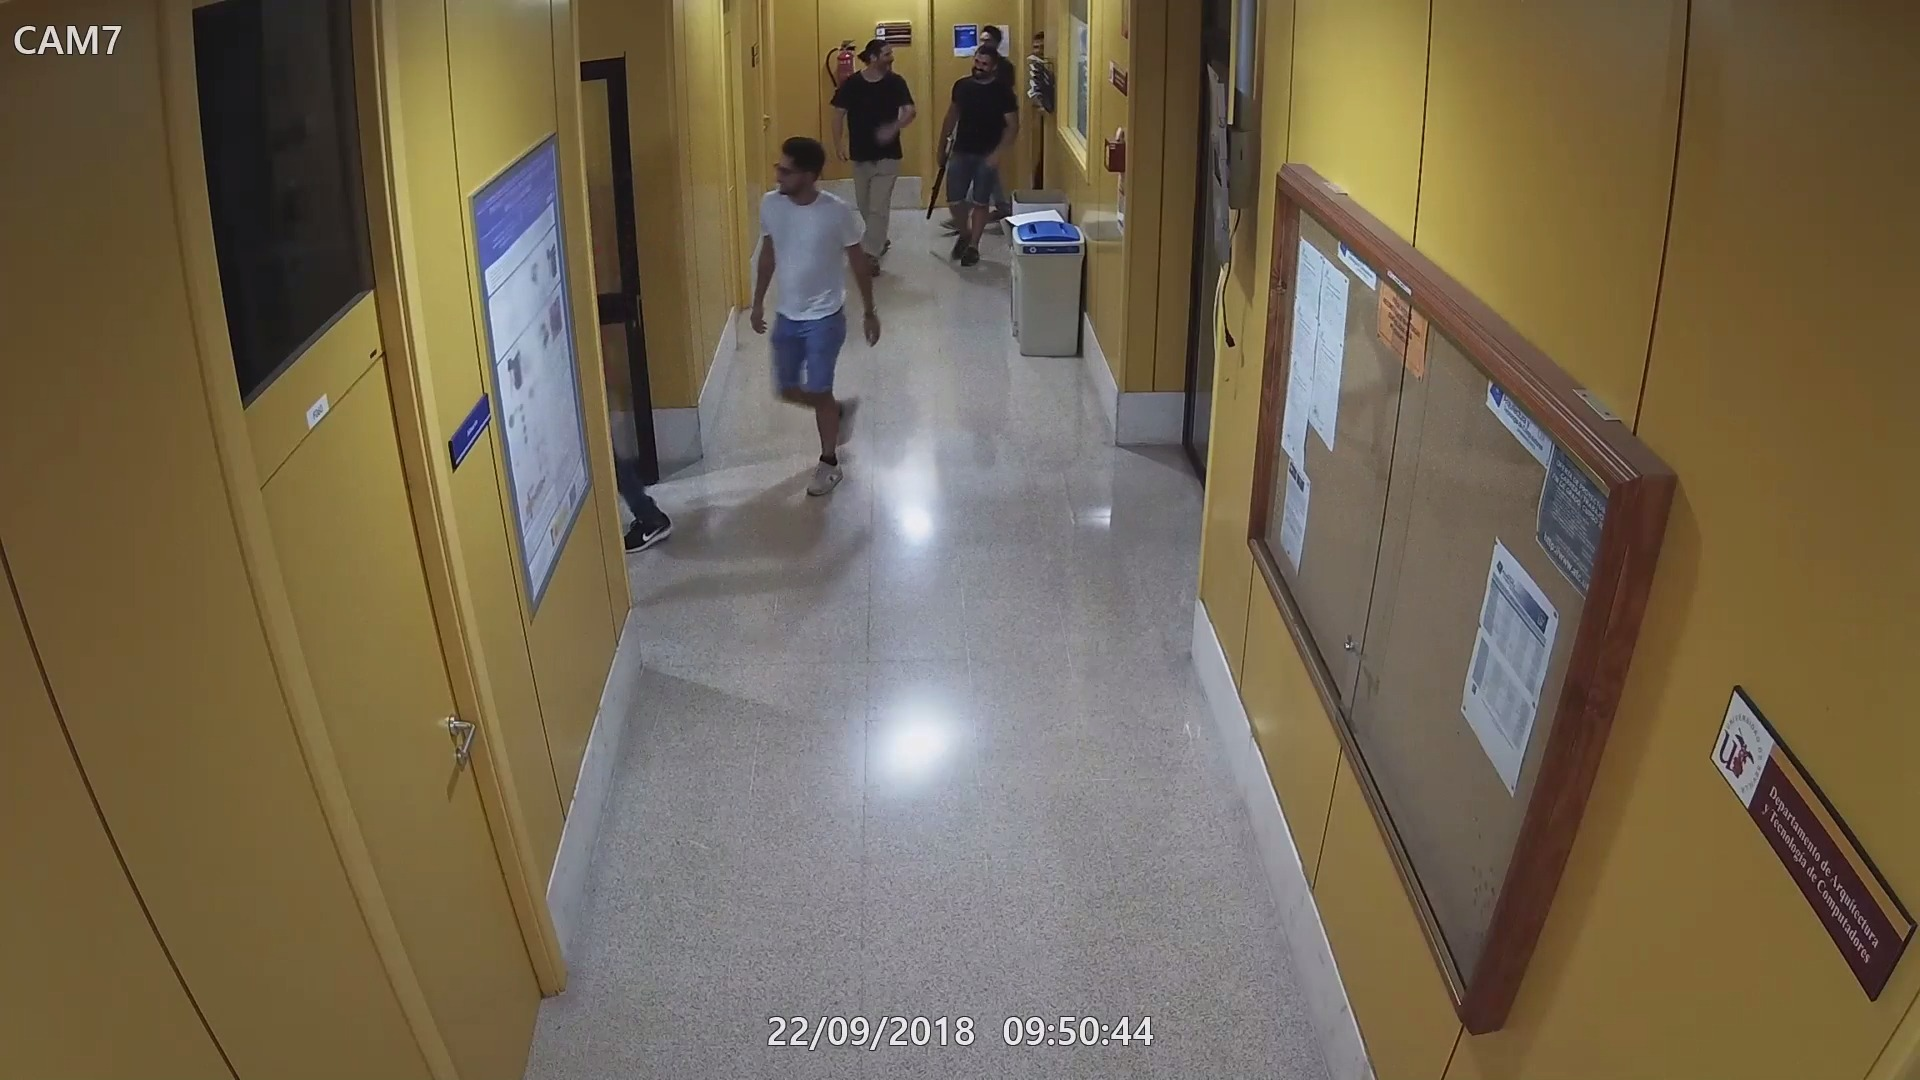Short_rifle: (924, 127, 957, 222)
